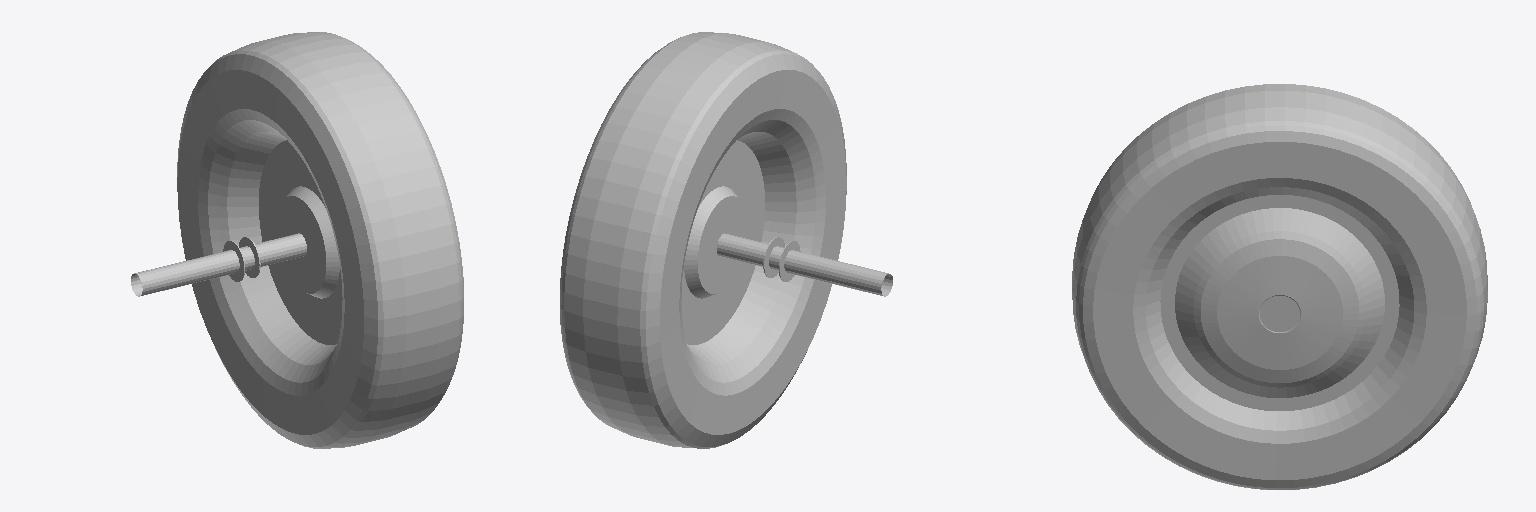
Rendered from vocho_rueda1.obj.
3 renders of one model, left to right at view 1: azimuth 30°, elevation 25°; view 2: azimuth 150°, elevation 25°; view 3: azimuth 270°, elevation 25°, orthographic.
Parts seen in each view (by area): view 1: VW_Beetle.073_Cube.073; view 2: VW_Beetle.073_Cube.073; view 3: VW_Beetle.073_Cube.073.
Part boxes in pixels (x1,y1,x2,y2): VW_Beetle.073_Cube.073: (131, 32, 463, 448); VW_Beetle.073_Cube.073: (560, 32, 892, 448); VW_Beetle.073_Cube.073: (1072, 84, 1487, 489).
Size of the model in its own units: 0.4407 by 0.6647 by 0.6647.